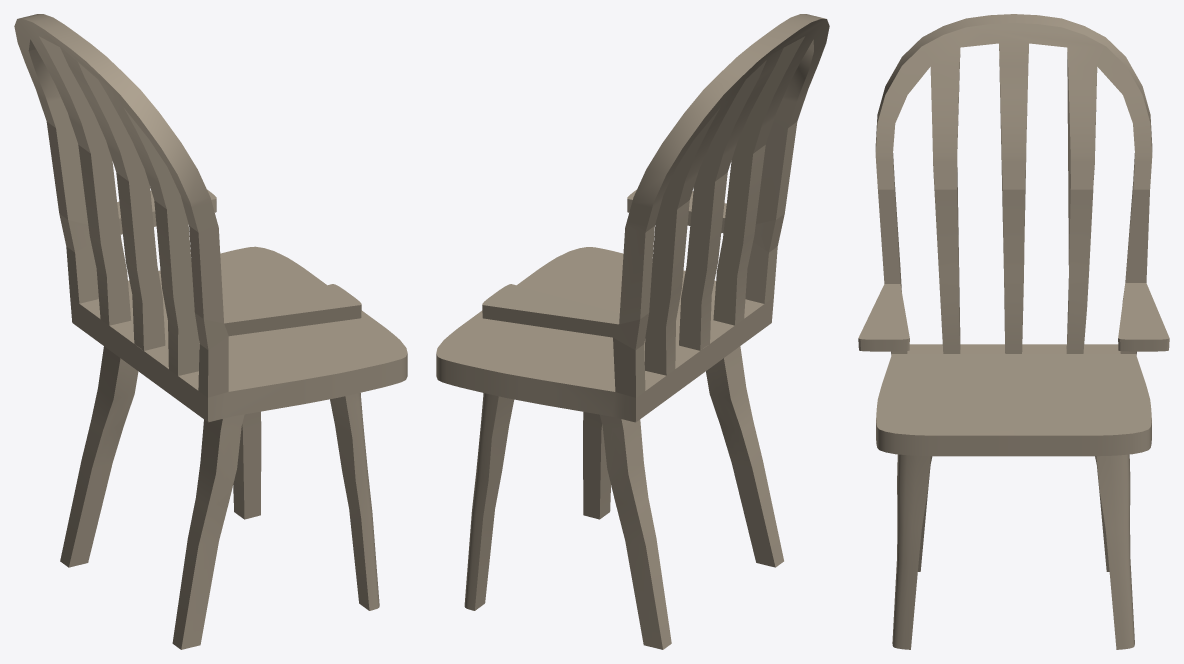
The model's file is Chair.fbx.
The picture shows the model from 3 angles, left to right: view 1: azimuth 30°, elevation 25°; view 2: azimuth 150°, elevation 25°; view 3: azimuth 270°, elevation 25°; orthographic projection. The views are drawn at different scales.
Visible parts, largest first — view 1: Cube.002; view 2: Cube.002; view 3: Cube.002.
Boxes of the visible parts, bbox=[...] form: Cube.002: bbox=[14, 14, 407, 649]; Cube.002: bbox=[436, 14, 829, 649]; Cube.002: bbox=[858, 14, 1169, 649].
Bounding box in the file's own units: 88.88 × 172 × 92.78.
